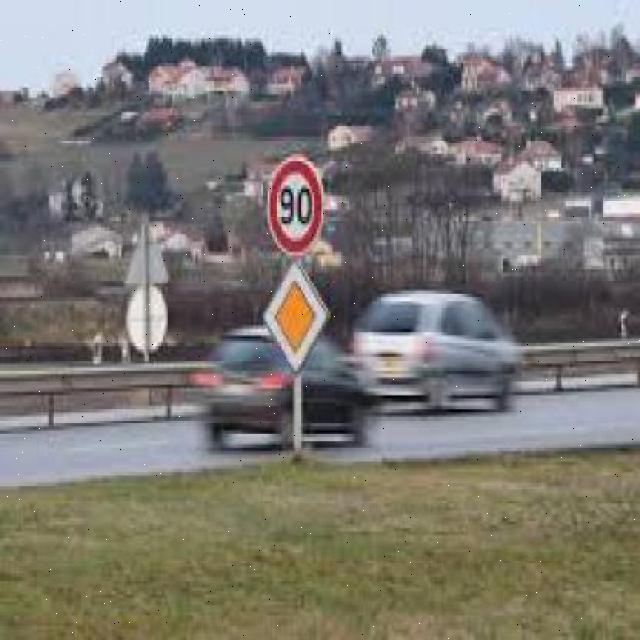speed limit 90: (267, 153, 323, 257)
